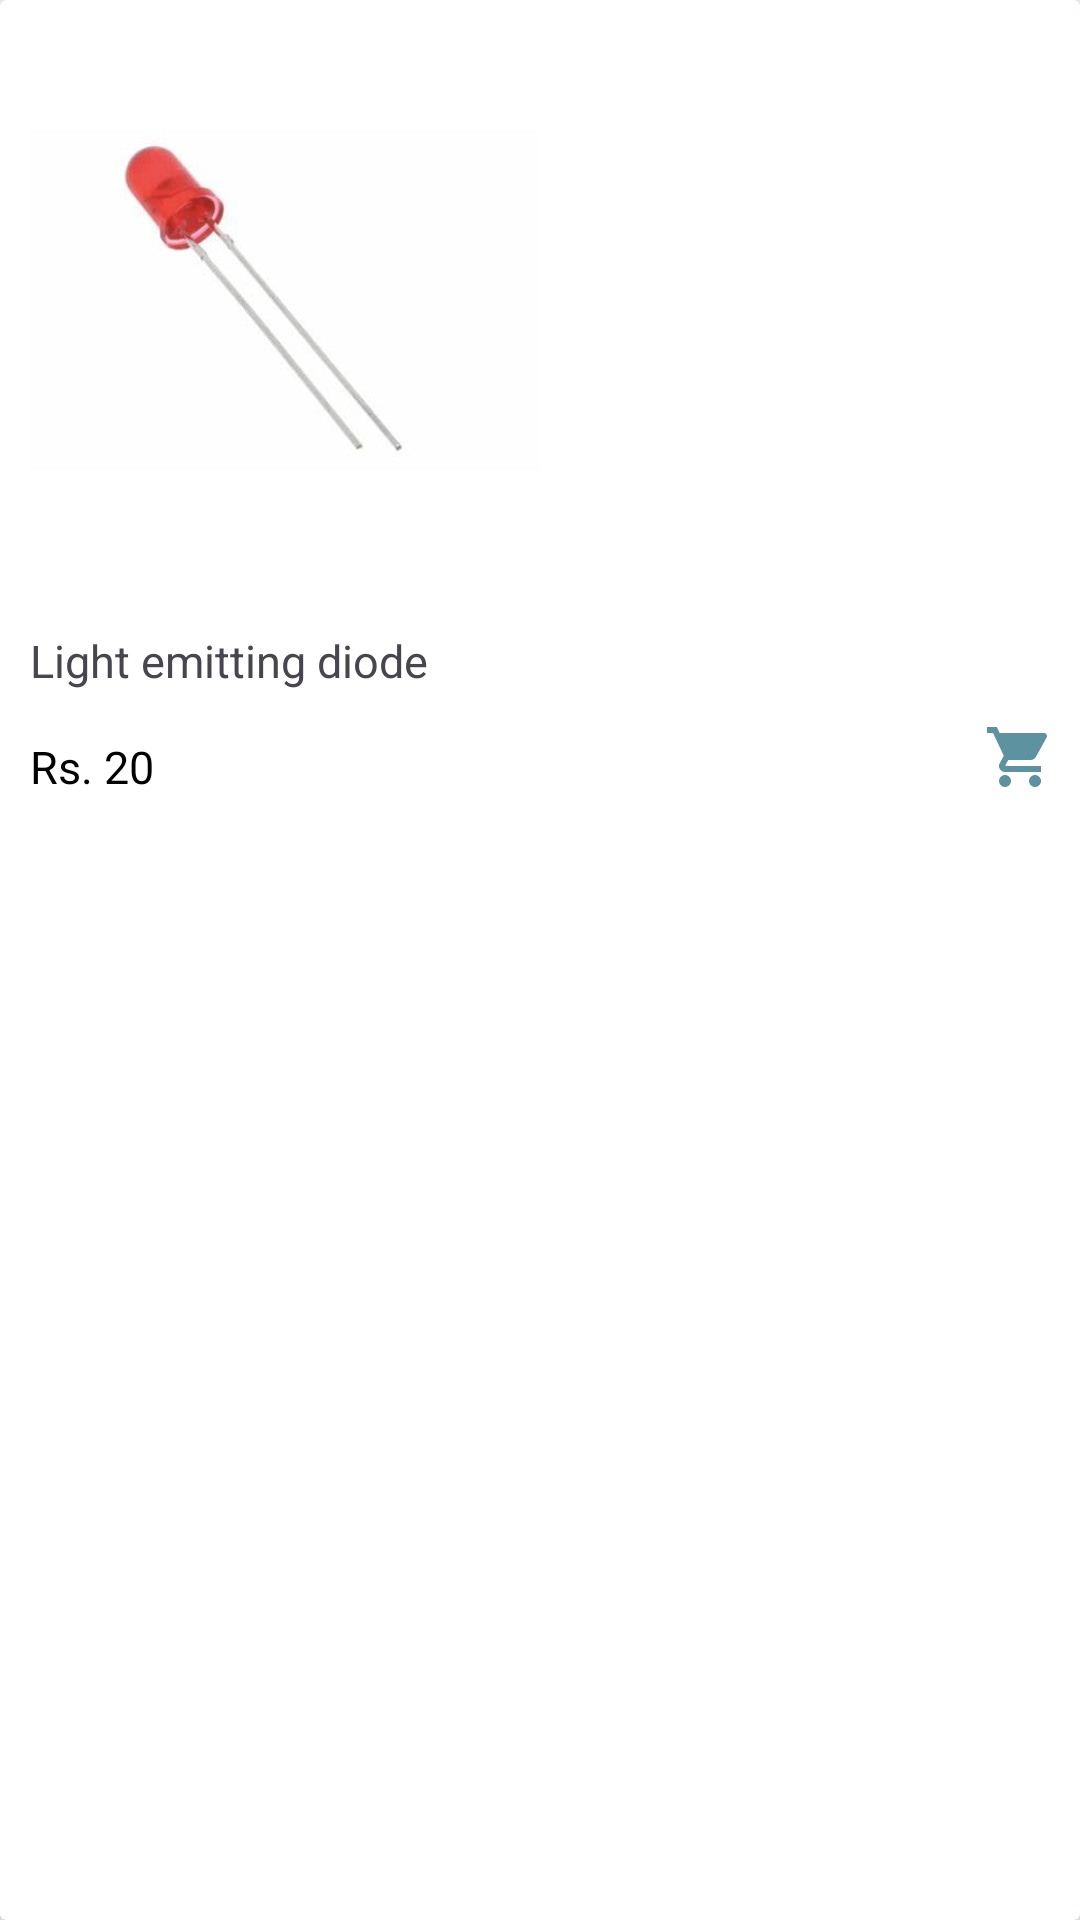

Named icons in this screenshot (1080 × 1920) and their bounding boxes, (x1, y1, x2, y2):
cart: (987, 727, 1047, 787)
led: (124, 146, 402, 451)
